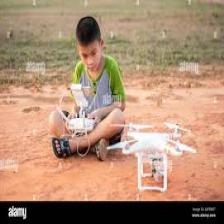drone: (111, 119, 189, 192)
